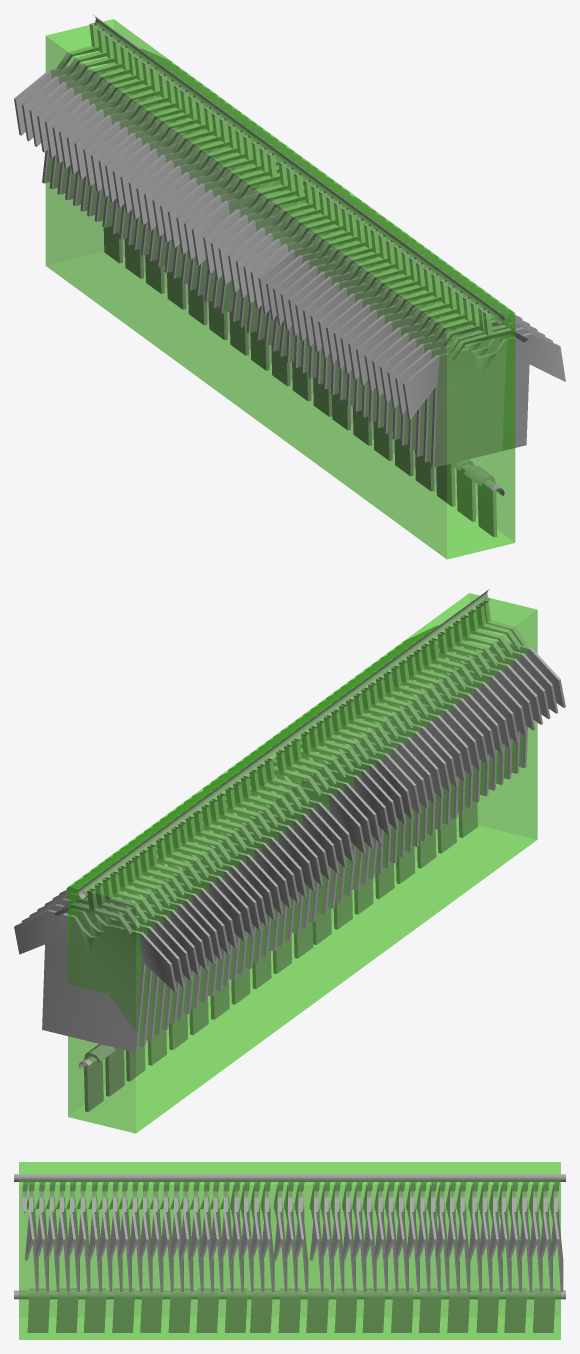
Rendered from Clothing_Rack.fbx.
The picture shows the model from 3 angles, top to bottom: view 1: azimuth 30°, elevation 25°; view 2: azimuth 150°, elevation 25°; view 3: azimuth 270°, elevation 25°; orthographic projection. The views are drawn at different scales.
Visible parts, largest first — view 1: pCylinder4, pCube3; view 2: pCylinder4, pCube3; view 3: pCube3, pCylinder4.
Part boxes in pixels (x1,y1,x2,y2): pCylinder4: (14,14,565,537); pCube3: (45,19,515,559); pCylinder4: (14,589,565,1111); pCube3: (68,593,537,1133); pCube3: (19,1162,560,1339); pCylinder4: (14,1174,565,1332).
Bounding box in the file's own units: 77.14 × 112 × 350.
